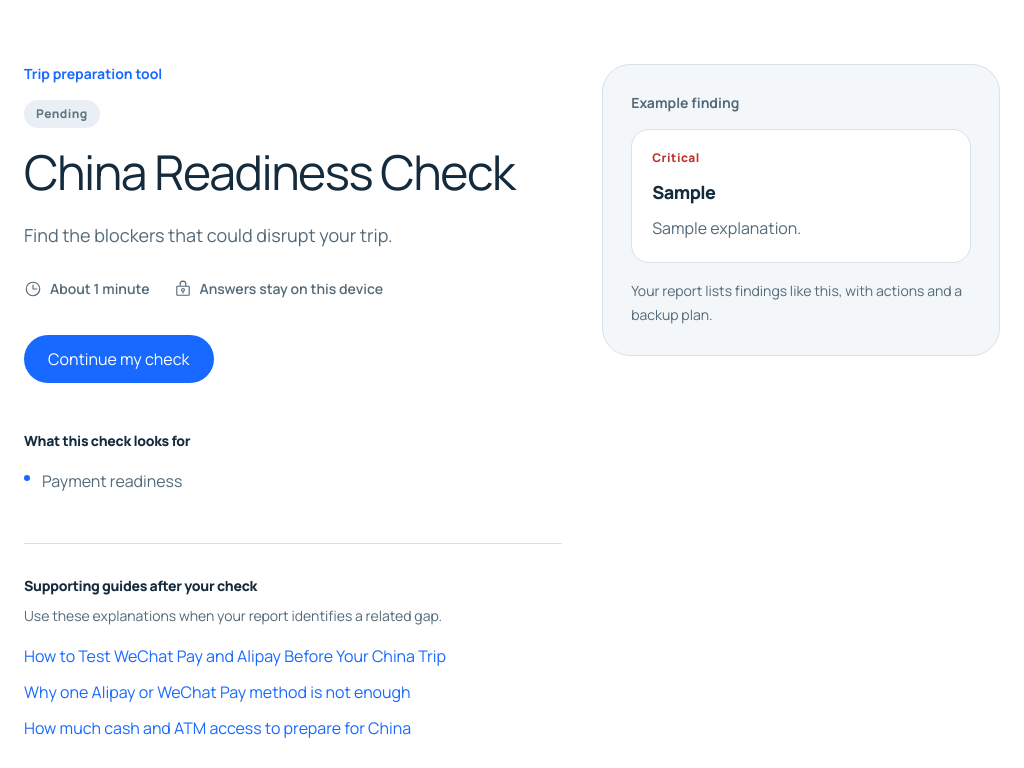
Test case: CheckExperience › restores a saved draft when the traveler starts the check
Check: the text "Pending" is shown, box [24, 100, 100, 128]
Click the button "Continue my check" at {"x": 119, "y": 359}, box [24, 335, 214, 383]
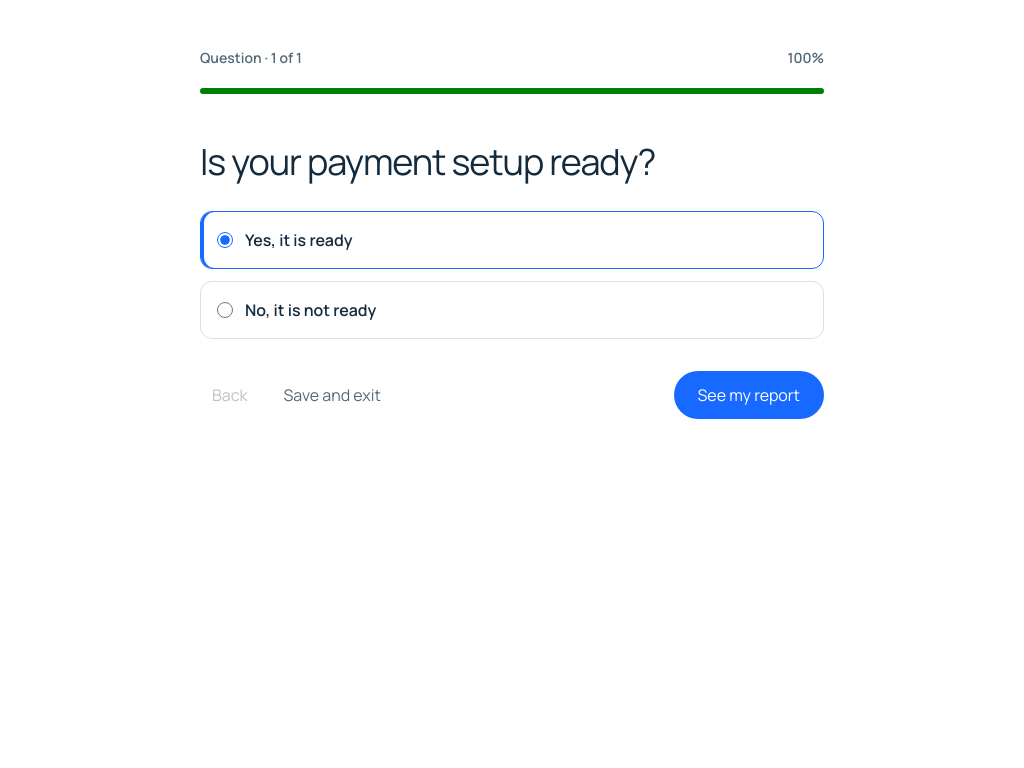
Check: the radio button labelled "Yes, it is ready" is checked, box [217, 232, 233, 248]
